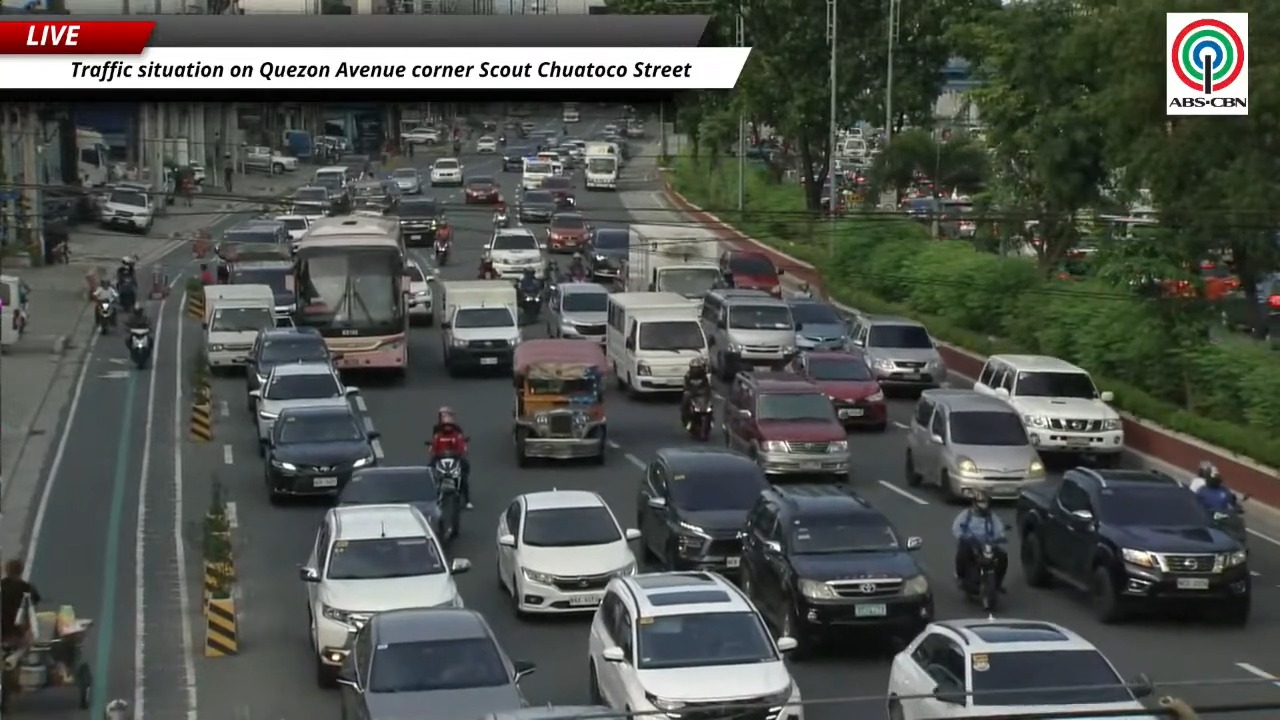bus: (293, 216, 408, 373), (522, 156, 557, 188)
car: (1015, 467, 1251, 625), (740, 484, 933, 658), (588, 572, 804, 719), (299, 504, 469, 686), (886, 618, 1152, 719), (337, 607, 534, 719), (496, 490, 638, 614), (973, 354, 1124, 466), (636, 447, 768, 574), (905, 388, 1045, 501), (722, 372, 849, 481), (264, 403, 379, 502), (249, 357, 358, 451), (336, 466, 459, 546), (700, 287, 797, 381), (790, 350, 887, 431), (245, 327, 331, 412), (850, 315, 946, 391), (228, 259, 295, 326), (1219, 273, 1279, 344), (547, 282, 608, 343), (215, 218, 291, 261), (786, 298, 848, 350), (391, 196, 451, 246), (486, 228, 544, 278), (719, 250, 782, 296), (100, 186, 155, 233), (584, 227, 629, 279), (478, 705, 615, 719), (546, 212, 590, 252), (406, 260, 433, 325), (288, 186, 338, 221), (352, 179, 400, 213), (516, 190, 557, 223), (539, 176, 575, 209), (464, 176, 502, 204), (273, 214, 310, 241), (429, 158, 463, 186), (390, 167, 422, 194), (501, 146, 533, 172), (401, 127, 440, 144), (556, 143, 578, 169), (476, 135, 497, 153), (562, 107, 579, 122), (520, 121, 537, 134), (601, 124, 618, 135)
motorcycle: (430, 454, 462, 542), (961, 542, 999, 612), (1211, 503, 1247, 545), (687, 395, 713, 441), (127, 327, 151, 369), (116, 276, 137, 313), (520, 289, 541, 323), (95, 300, 115, 333), (434, 239, 450, 266), (492, 209, 510, 228), (498, 135, 506, 146)
truck: (435, 280, 521, 374), (621, 224, 724, 299), (203, 284, 278, 371), (76, 127, 109, 187), (582, 143, 620, 190), (244, 146, 298, 174)
